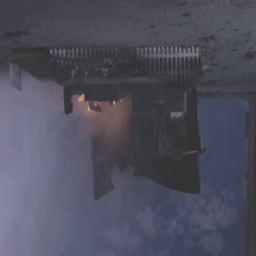smoke: (0, 113, 122, 256)
